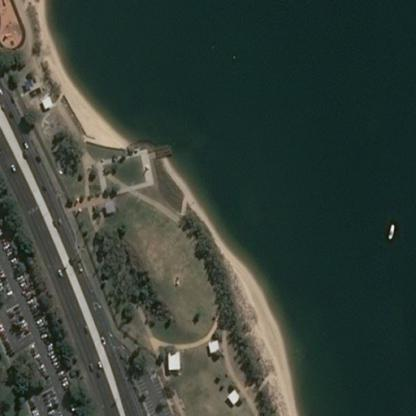ship: (387, 223, 394, 239)
